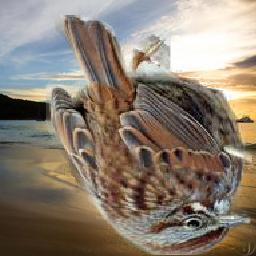Sparrow: (46, 15, 252, 255)
